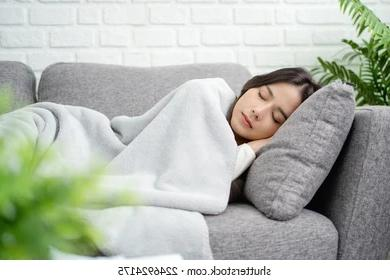blanket: (0, 77, 237, 259)
